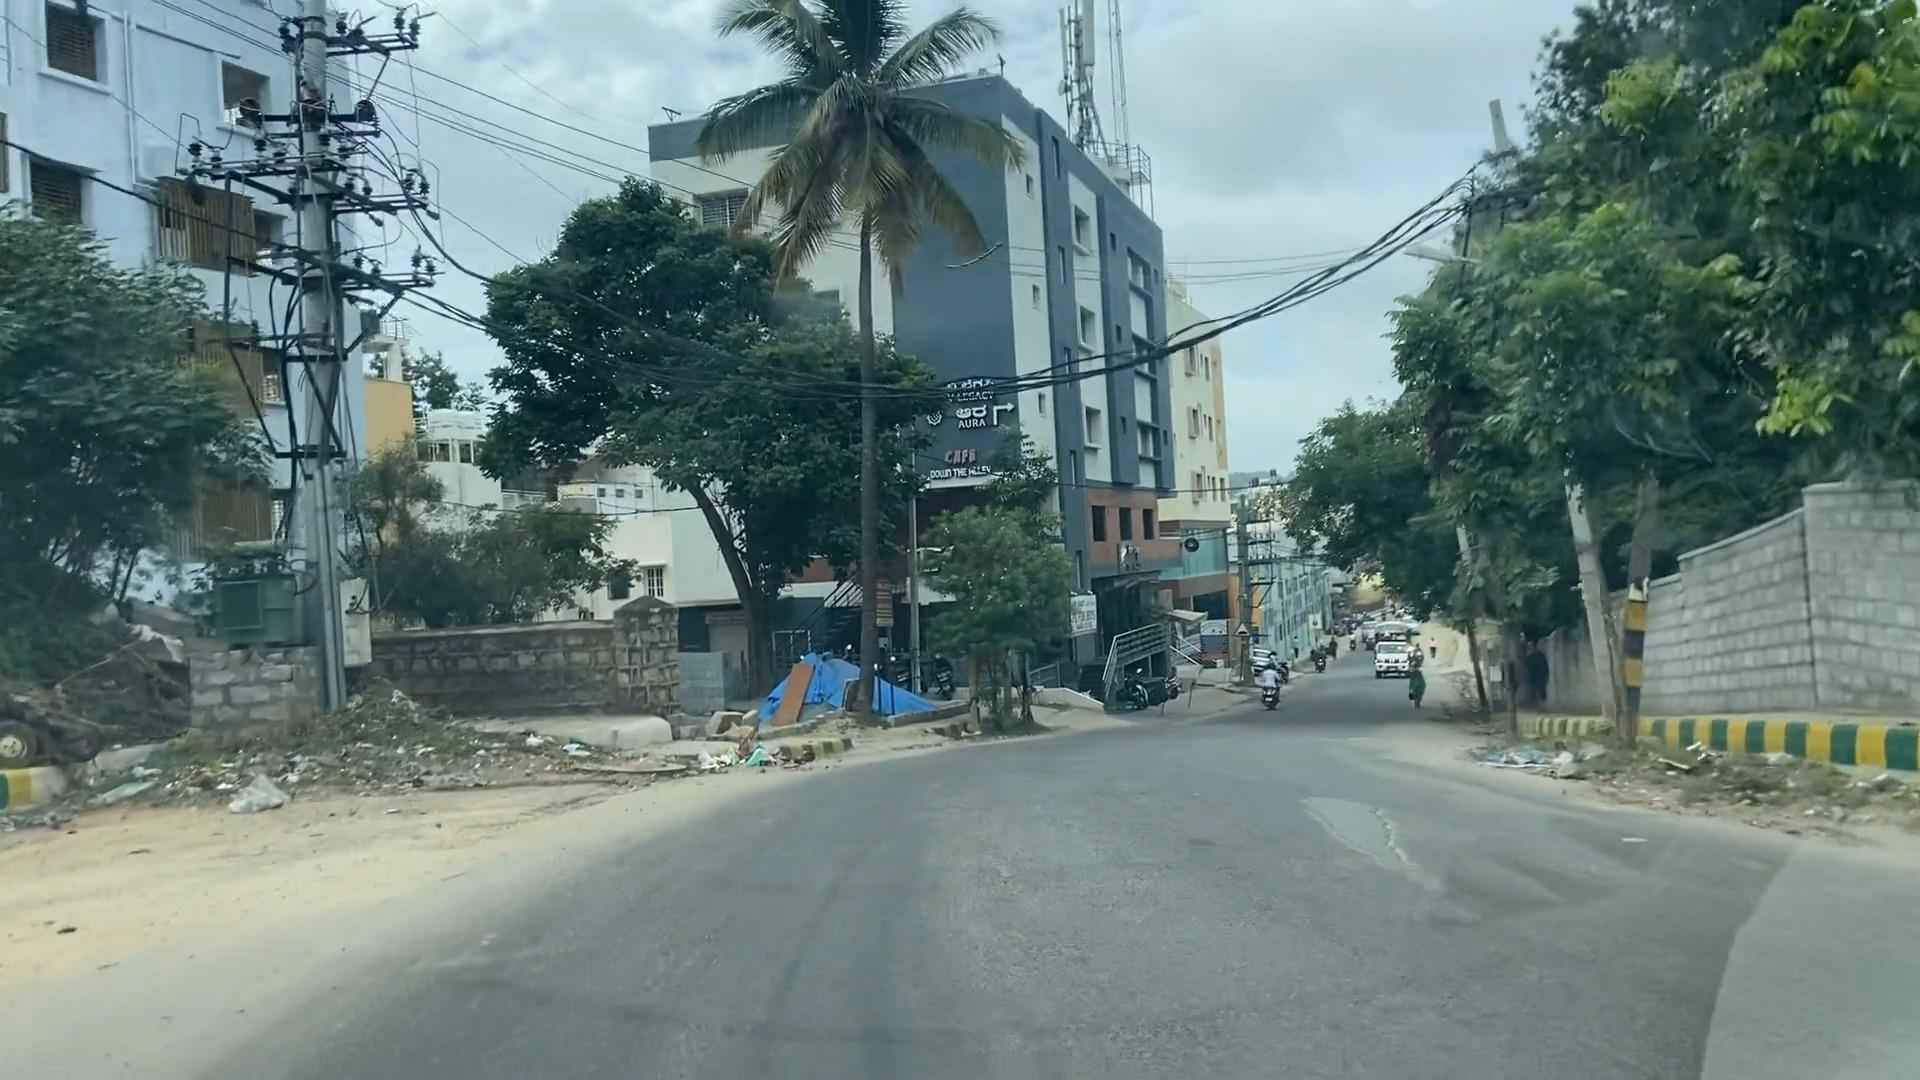RoadDamages: (1266, 766, 1585, 947)
